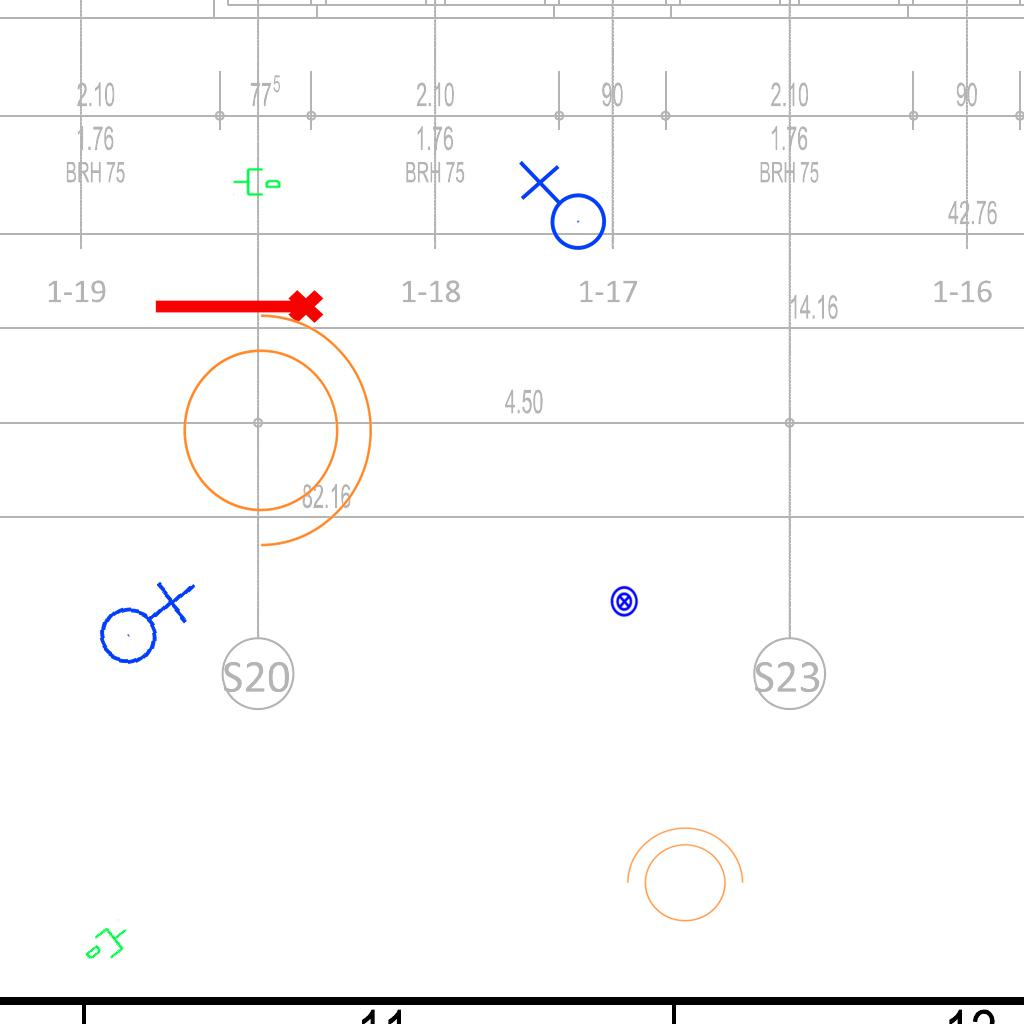ASR_Ansaugoeffnung: (150, 286, 326, 332)
Datenanschluss_einfach: (77, 916, 139, 974), (231, 163, 283, 199)
Elektroanschluss_allgemein_230V_Geraeteanschlussdose_230V: (87, 567, 198, 673), (514, 160, 608, 259)
Scheinwerfer_fuer_Alarmbeleuchtung: (158, 292, 383, 556), (616, 822, 748, 934)
Taster_beleuchtet: (608, 585, 641, 618)
